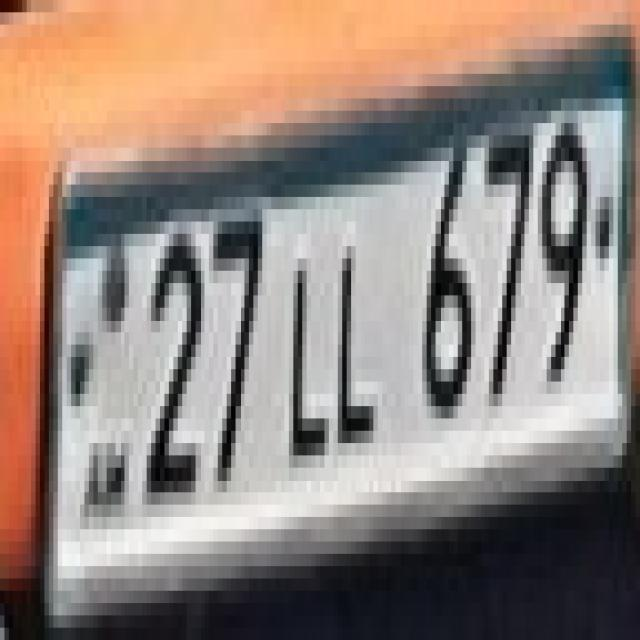2: (133, 197, 204, 492)
6: (400, 110, 480, 407)
7: (200, 197, 266, 468), (471, 111, 529, 394)
9: (529, 110, 591, 382)
L: (271, 222, 329, 456), (320, 209, 378, 431)
